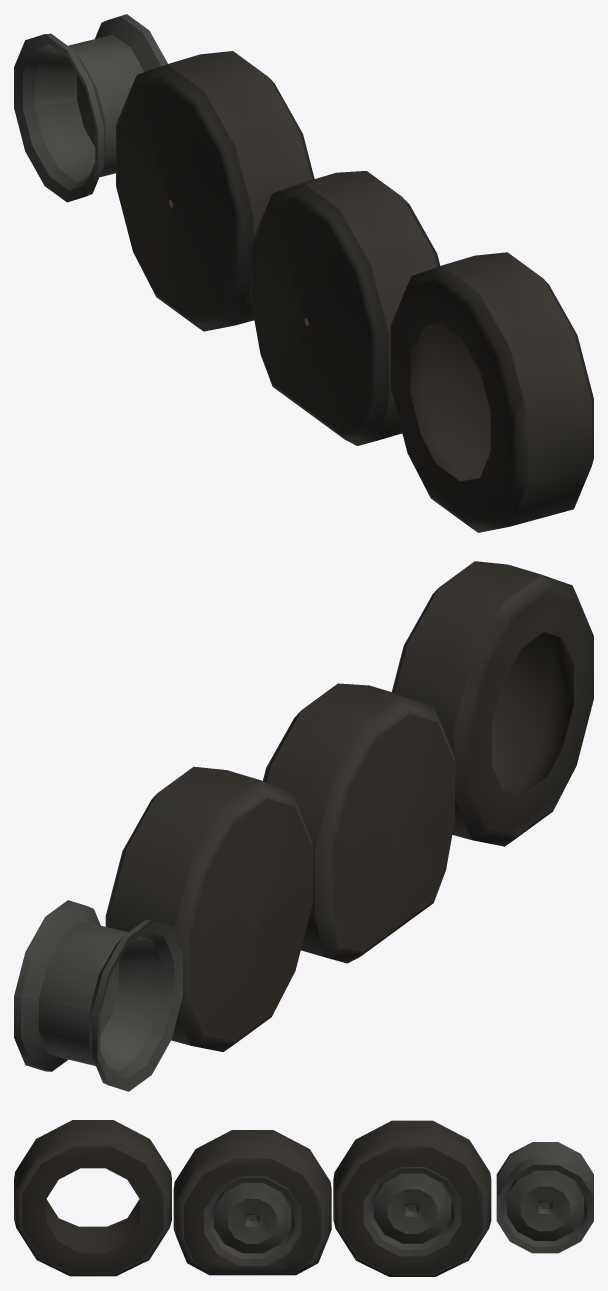
File: bz_wheels_collection _01.fbx
3 renders of one model, top to bottom at view 1: azimuth 30°, elevation 25°; view 2: azimuth 150°, elevation 25°; view 3: azimuth 270°, elevation 25°, orthographic. The views are drawn at different scales.
Parts seen in each view (by area): view 1: bz_wheel_04, bz_wheel_01, bz_wheel_02, bz_wheel_03; view 2: bz_wheel_01, bz_wheel_04, bz_wheel_02, bz_wheel_03; view 3: bz_wheel_01, bz_wheel_02, bz_wheel_04, bz_wheel_03.
Boxes of the visible parts, x1,y1,x2,y2 form: bz_wheel_04: (390, 252, 593, 532); bz_wheel_01: (116, 51, 314, 331); bz_wheel_02: (251, 171, 440, 445); bz_wheel_03: (14, 14, 167, 202); bz_wheel_01: (105, 766, 312, 1051); bz_wheel_04: (392, 561, 593, 846); bz_wheel_02: (263, 683, 454, 963); bz_wheel_03: (14, 900, 182, 1091); bz_wheel_01: (333, 1120, 491, 1276); bz_wheel_02: (173, 1130, 331, 1275); bz_wheel_04: (14, 1120, 171, 1276); bz_wheel_03: (496, 1142, 593, 1253).
Size of the model in its own units: 0.2366 by 0.5791 by 2.18.
